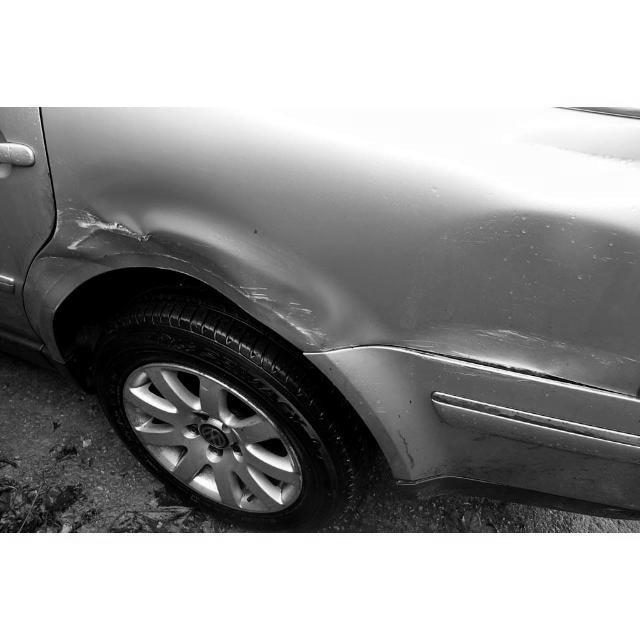quaterpanel-dent: (55, 113, 393, 273)
